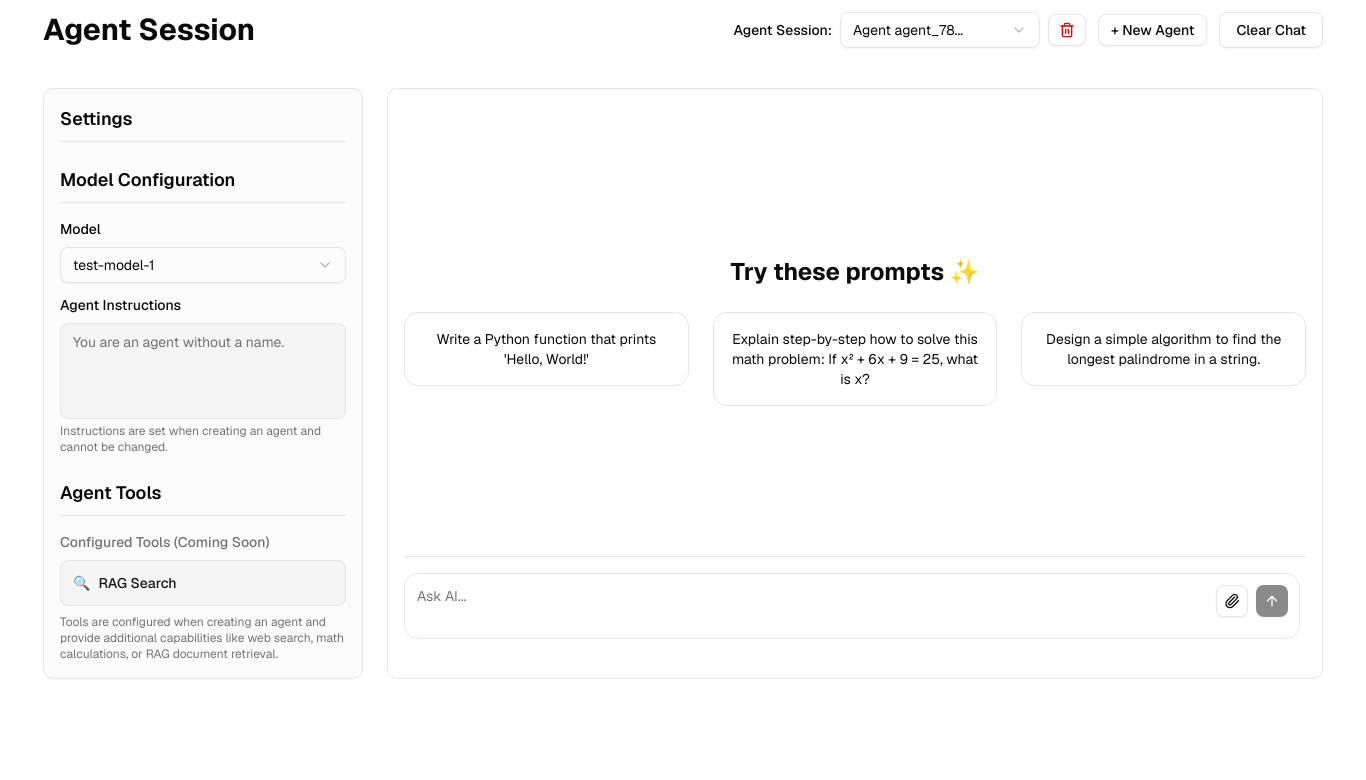
Test: ChatPlaygroundPage › Agent Selector Rendering › displays agent ID when no name is available
Step 1. Click the dropdown labelled "Agent agent_78..." → (940, 30), box [840,12,1040,48]
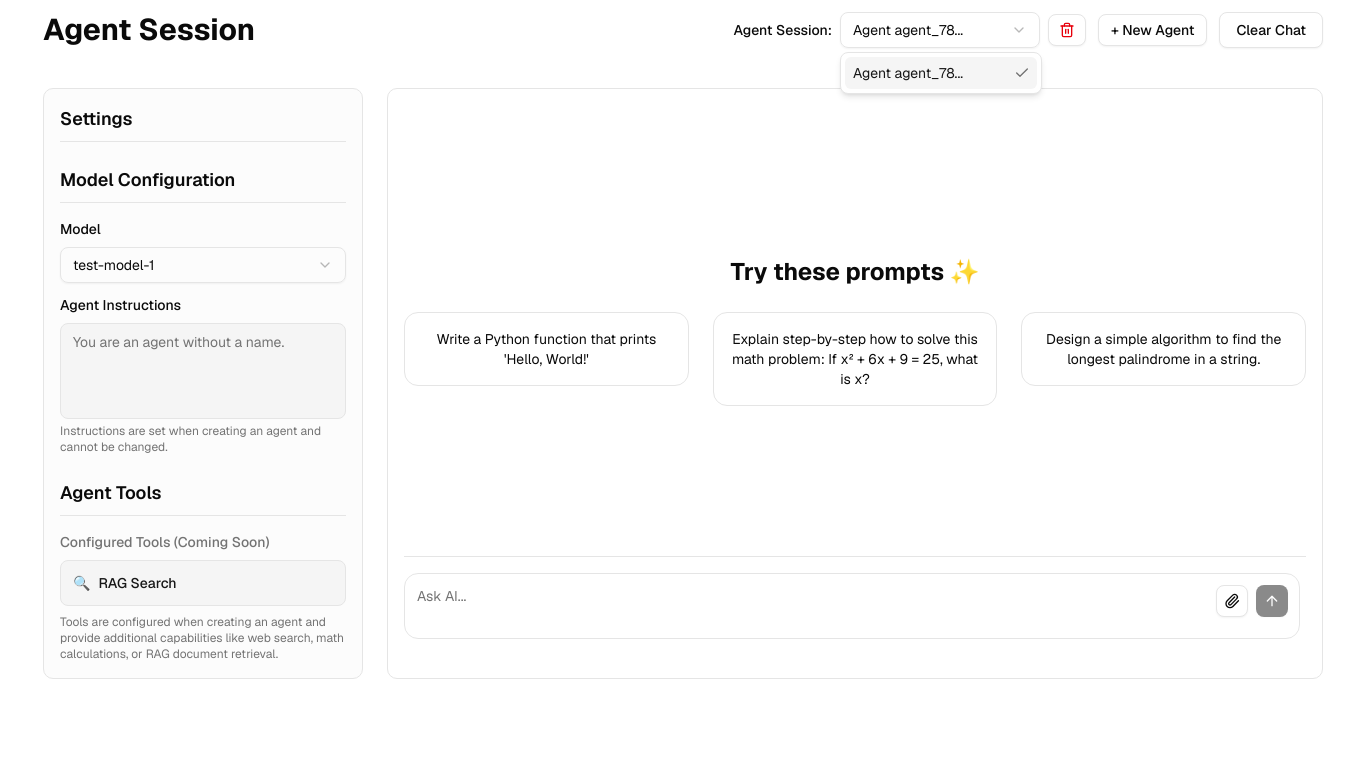
Now the text "Agent agent_78..." is shown 2 times, box [853,20,963,40]; [853,63,963,83]
